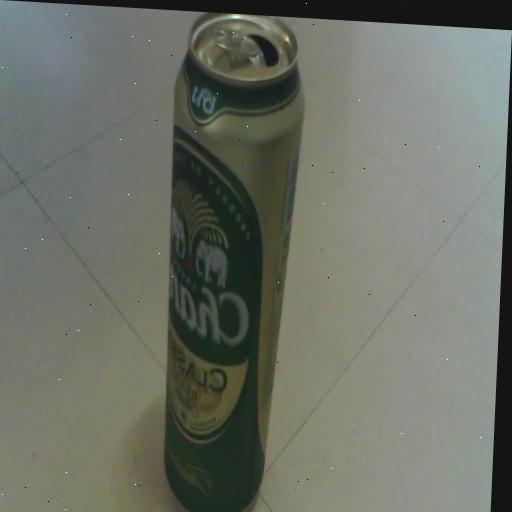canned: (148, 10, 319, 512)
